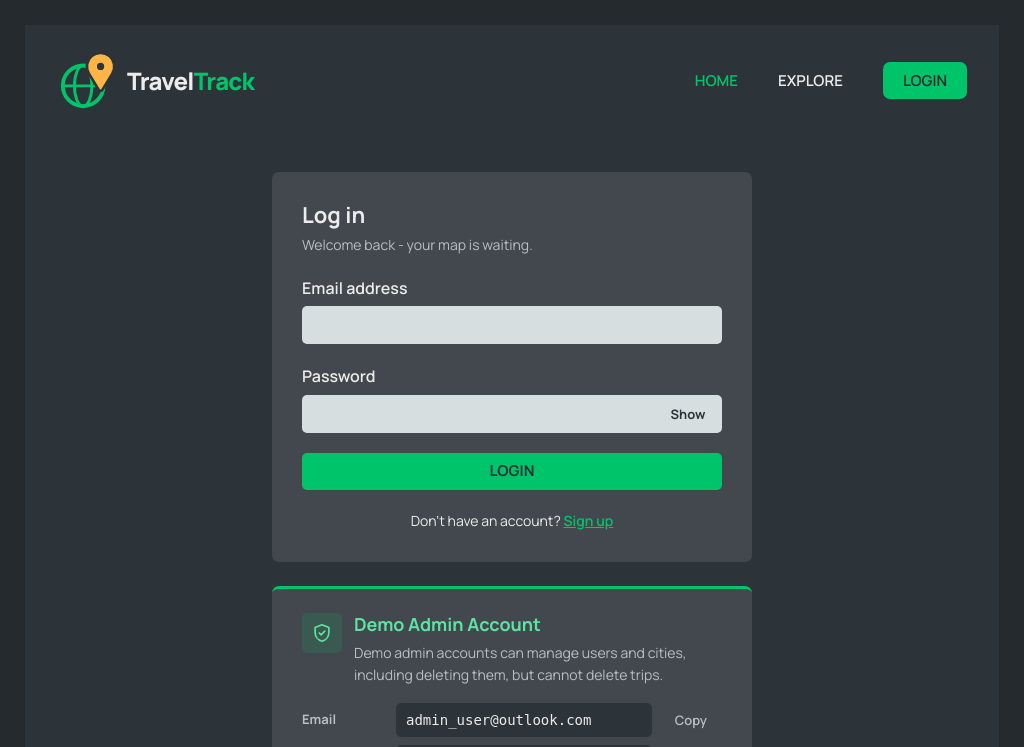
Test: Login form › disables the button while signing in and shows a wrapped, announced error on failure
Type "someone@example.com" into the field labelled "Email address" at (512, 326), box [302,306,722,344]
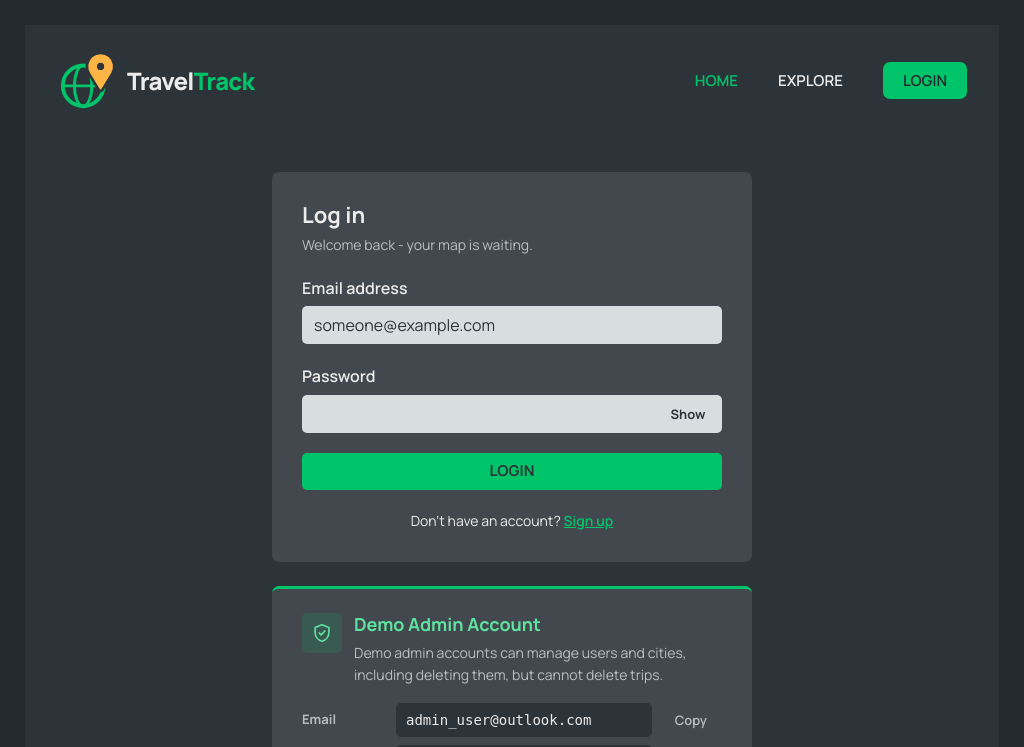
Type "wrong-password" into the password field labelled "Password" at (512, 414), box [302,395,722,433]
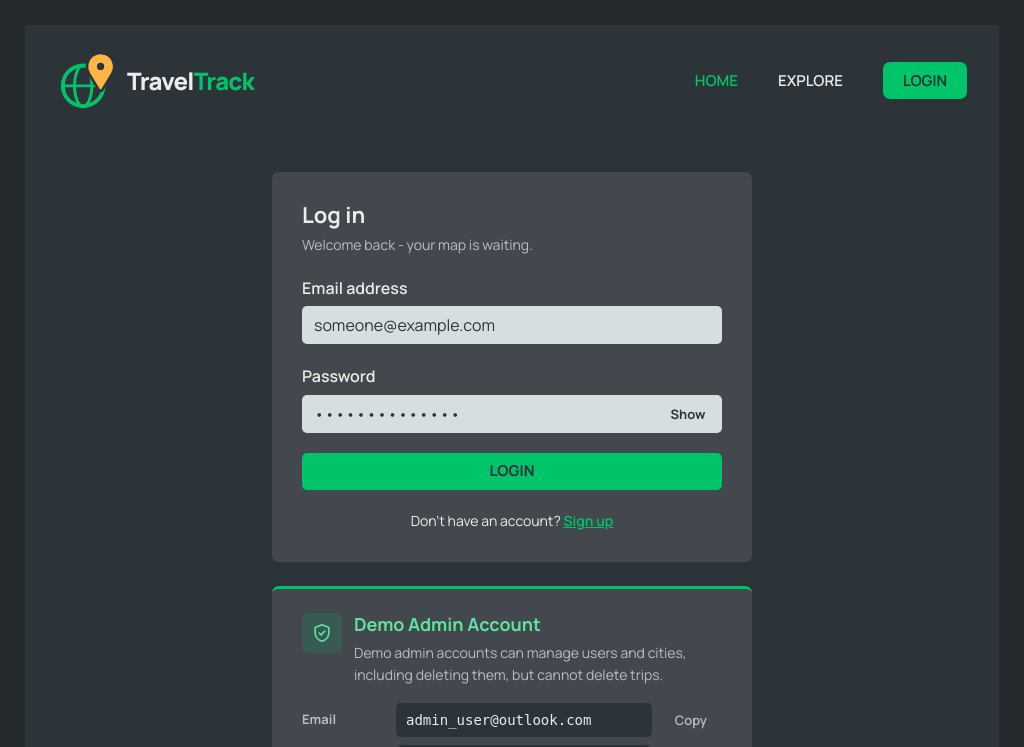
Click the button "Login" at (512, 472), box [302,453,722,490]
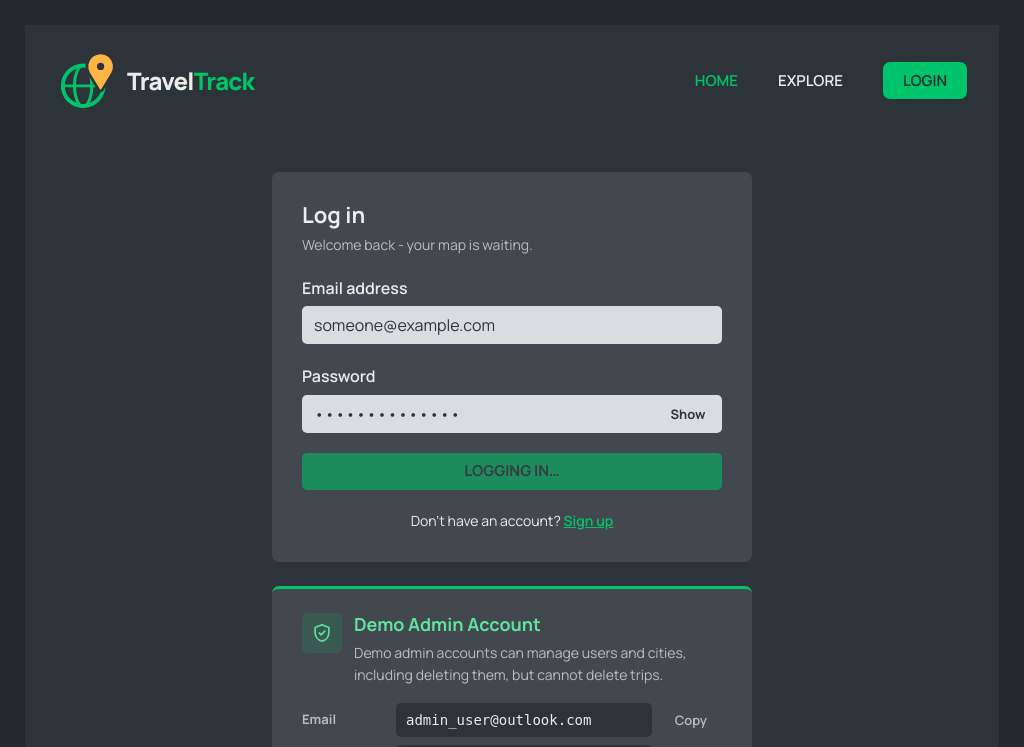
Check: the button "Logging in…" is disabled
Click the button "Logging in…" at (512, 472), box [302,453,722,490]
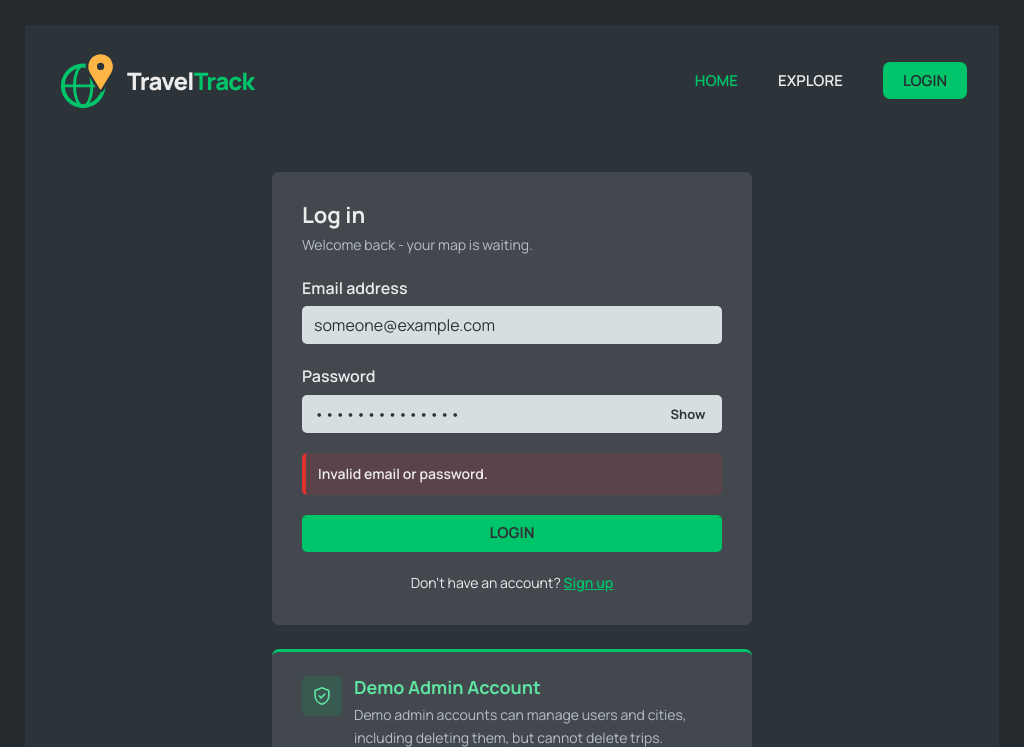
Check: the message reads "Invalid email or password.", box [318,464,488,483]
Check: the button "Login" is enabled, box [302,516,722,552]
